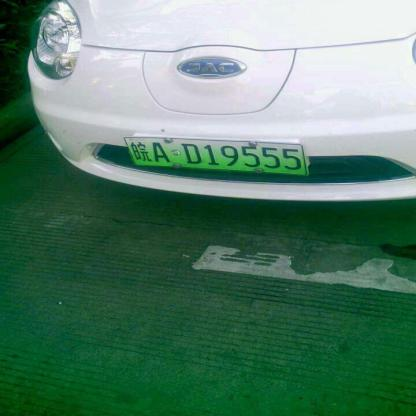lp: (127, 137, 306, 176)
